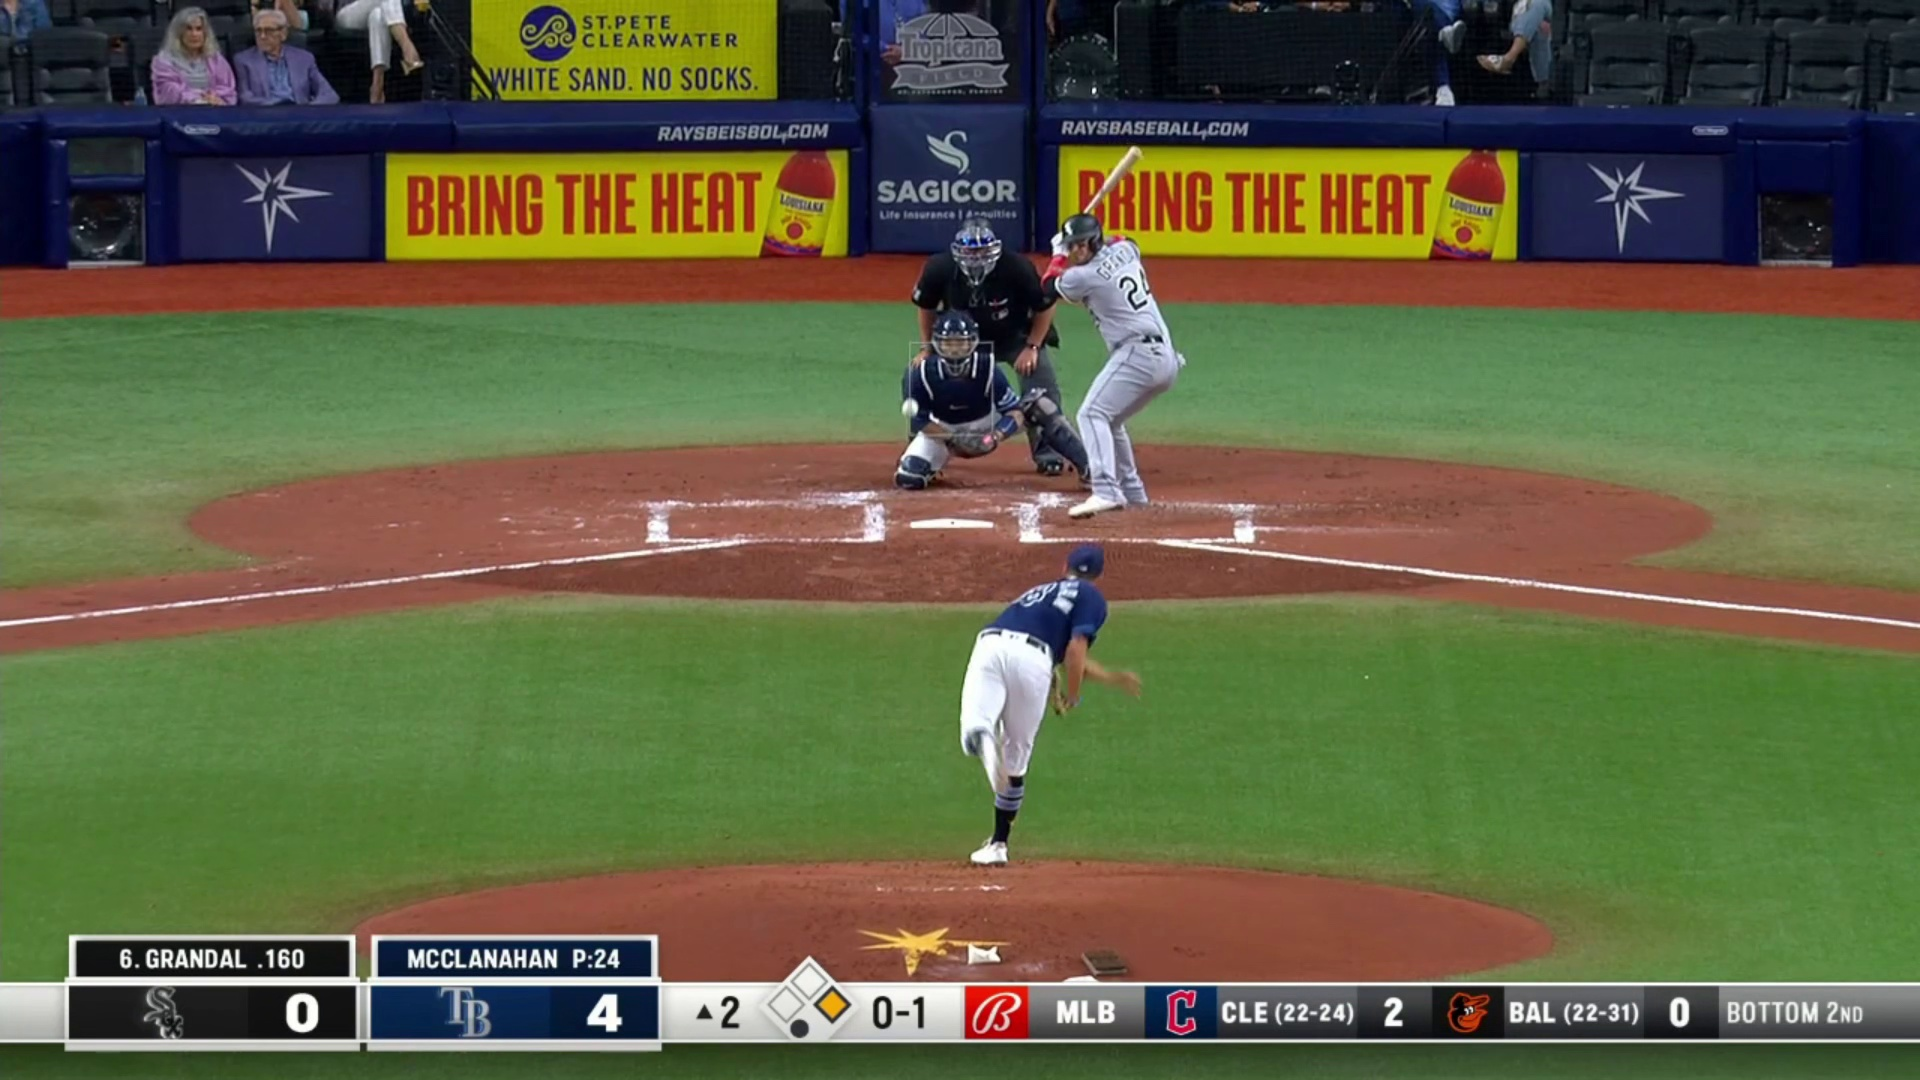baseball: (899, 397, 918, 415)
